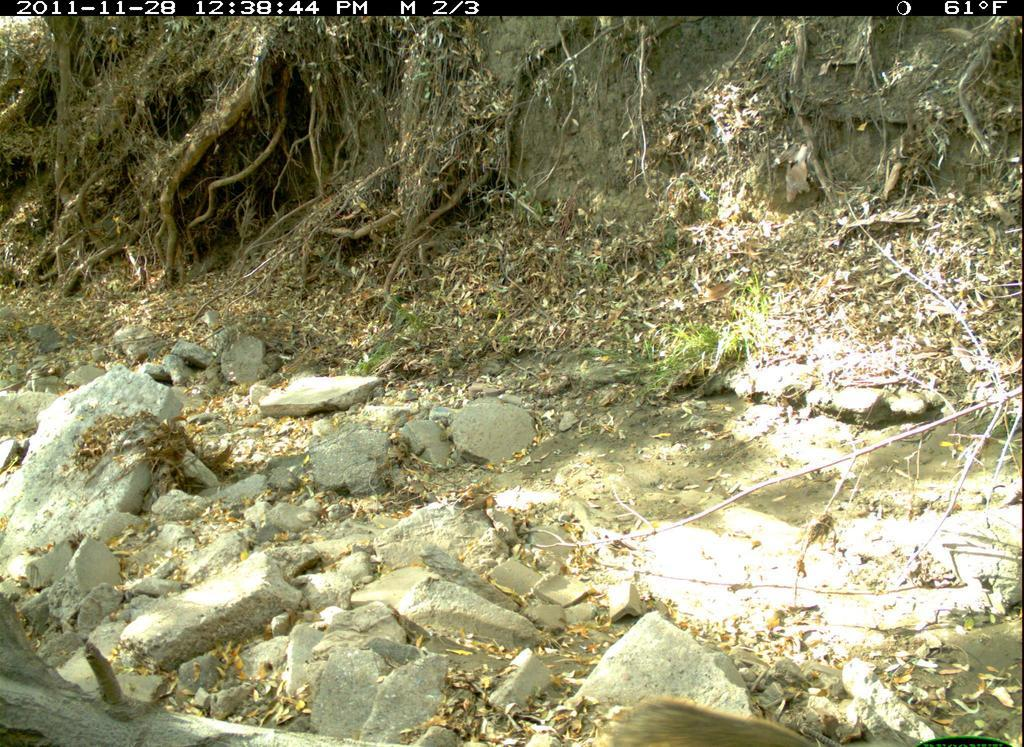squirrel: (597, 691, 924, 747)
